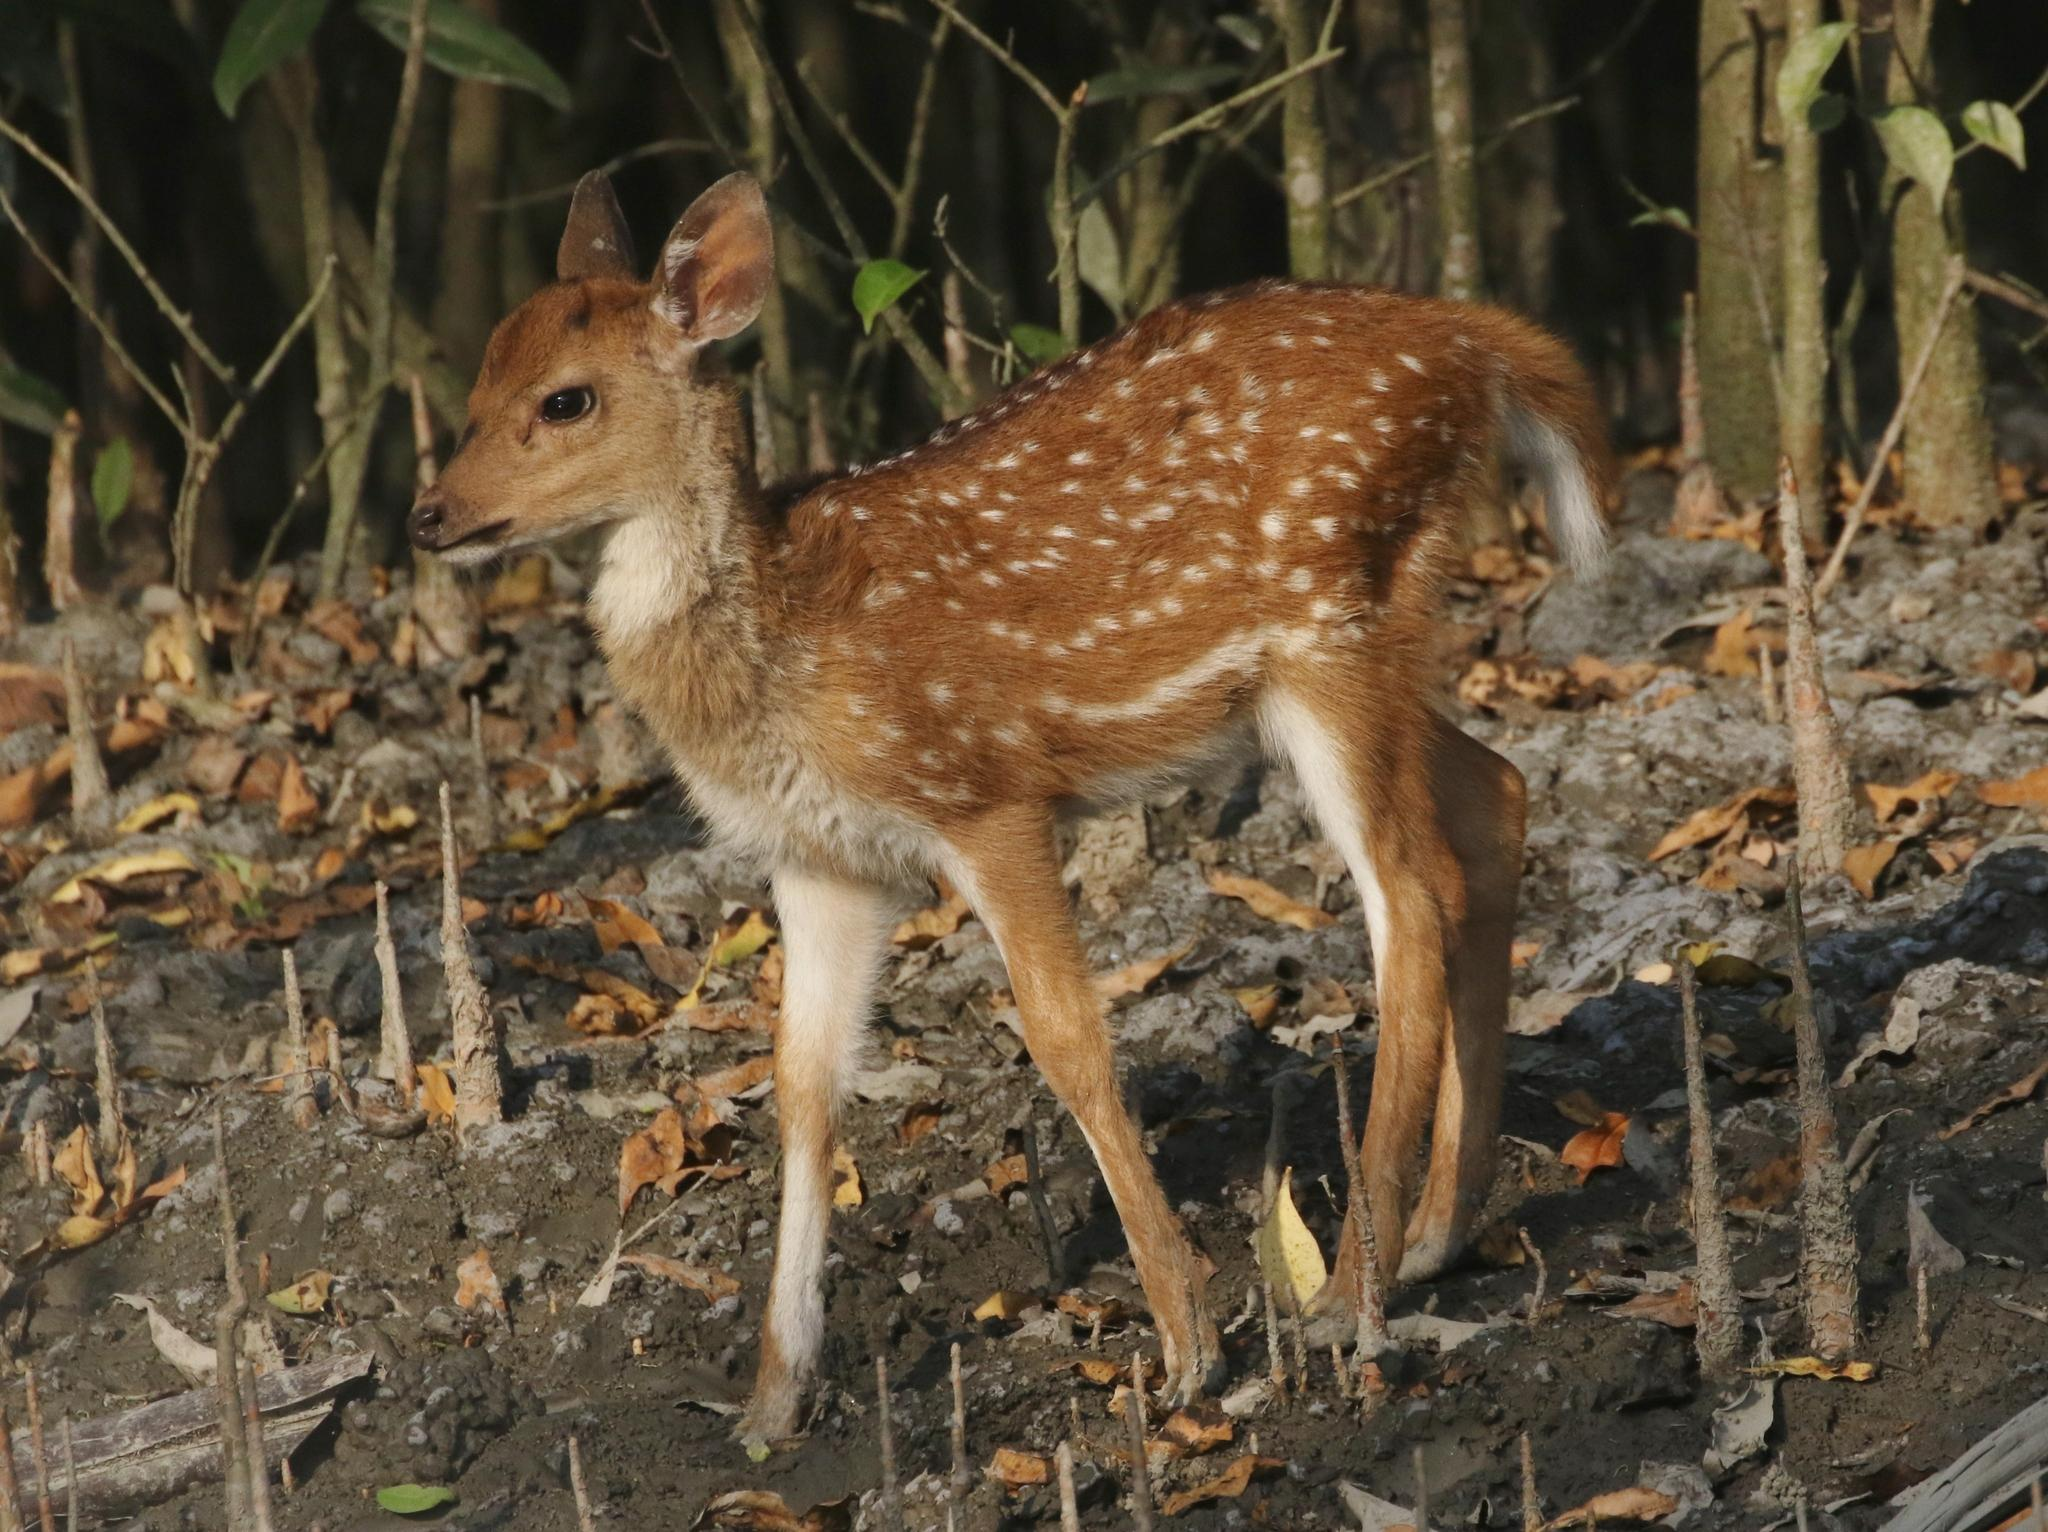Deer: (409, 174, 1609, 1437)
